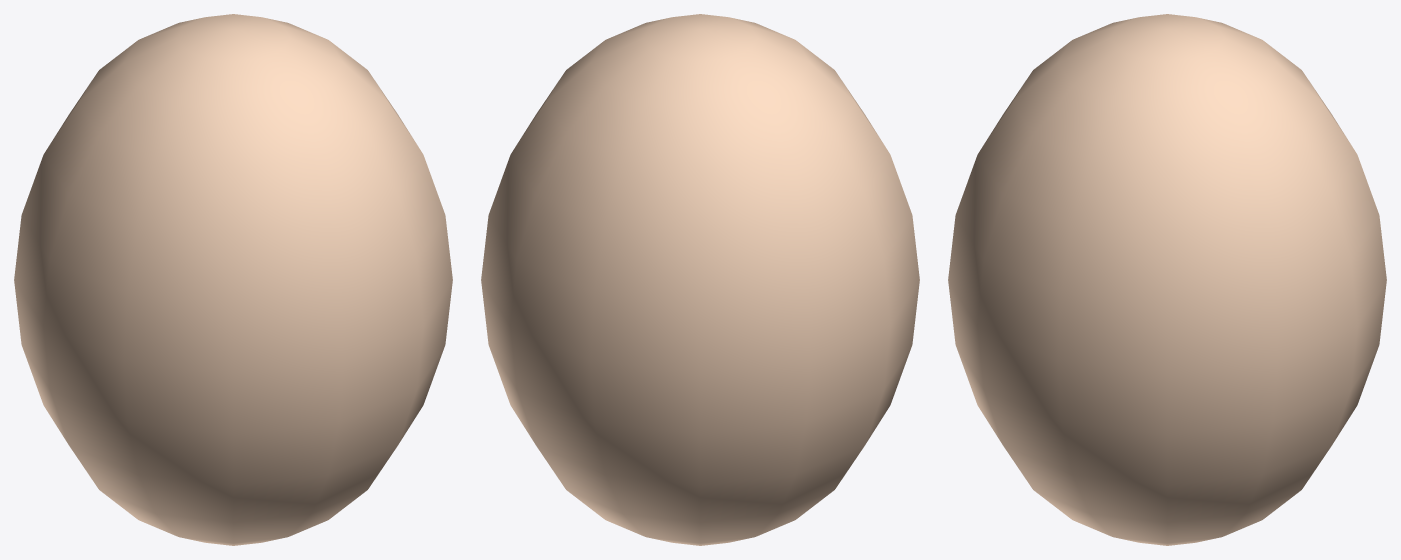
Rendered from Egg.fbx.
3 renders of one model, left to right at view 1: azimuth 30°, elevation 25°; view 2: azimuth 150°, elevation 25°; view 3: azimuth 270°, elevation 25°, orthographic.
Parts seen in each view (by area): view 1: Egg; view 2: Egg; view 3: Egg.
Part boxes in pixels (x1,y1,x2,y2): Egg: (14, 14, 452, 545); Egg: (481, 14, 919, 545); Egg: (948, 14, 1386, 545).
Bounding box in the file's own units: 200 × 252 × 200.
